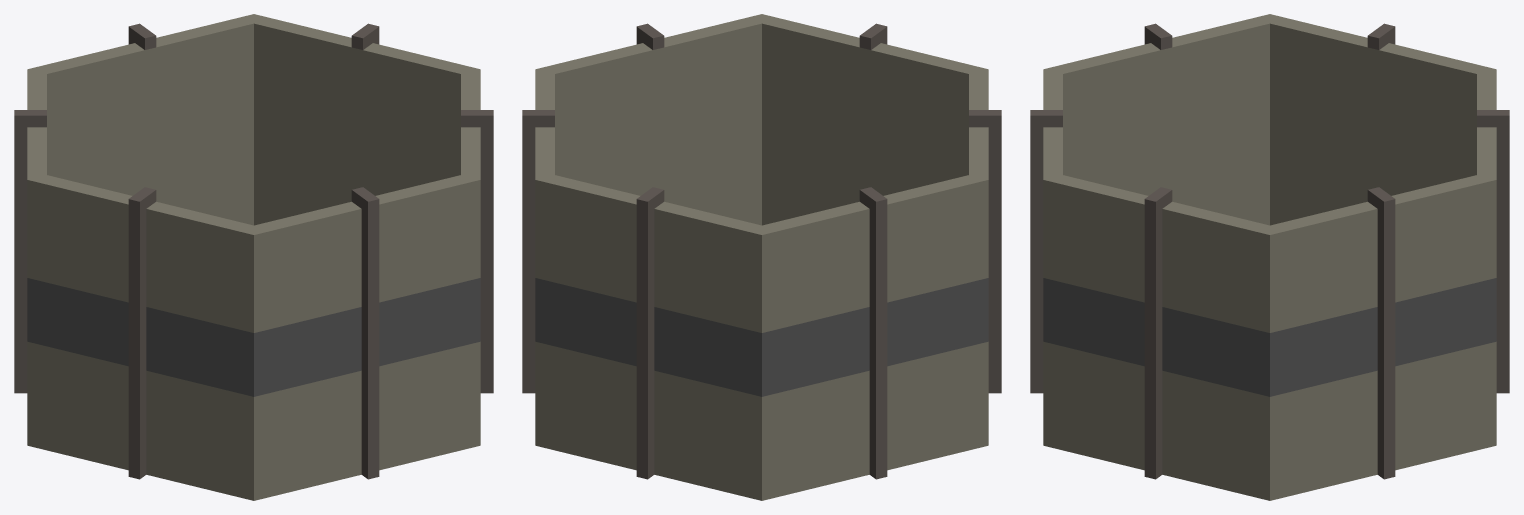
File: AboveGroundSlurryTank.fbx
3 renders of one model, left to right at view 1: azimuth 30°, elevation 25°; view 2: azimuth 150°, elevation 25°; view 3: azimuth 270°, elevation 25°, orthographic.
Visible parts, largest first — view 1: Above_Ground_Slurry_Tank; view 2: Above_Ground_Slurry_Tank; view 3: Above_Ground_Slurry_Tank.
Boxes of the visible parts, x1,y1,x2,y2 form: Above_Ground_Slurry_Tank: (14,14,493,500); Above_Ground_Slurry_Tank: (522,14,1001,500); Above_Ground_Slurry_Tank: (1030,14,1509,500).
Size of the model in its own units: 26.24 by 15.37 by 24.04.
